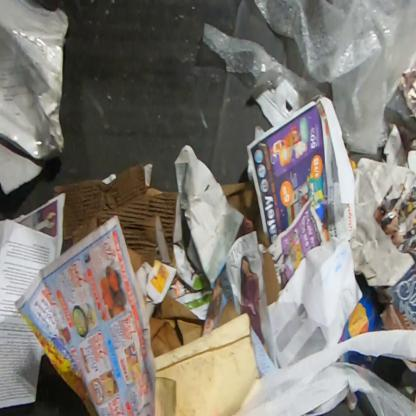cardboard: (52, 162, 180, 274), (372, 240, 415, 331), (149, 295, 206, 358), (220, 180, 271, 249), (251, 79, 299, 128), (261, 250, 282, 306), (215, 298, 242, 328)
soft_plastic: (200, 0, 415, 155)
